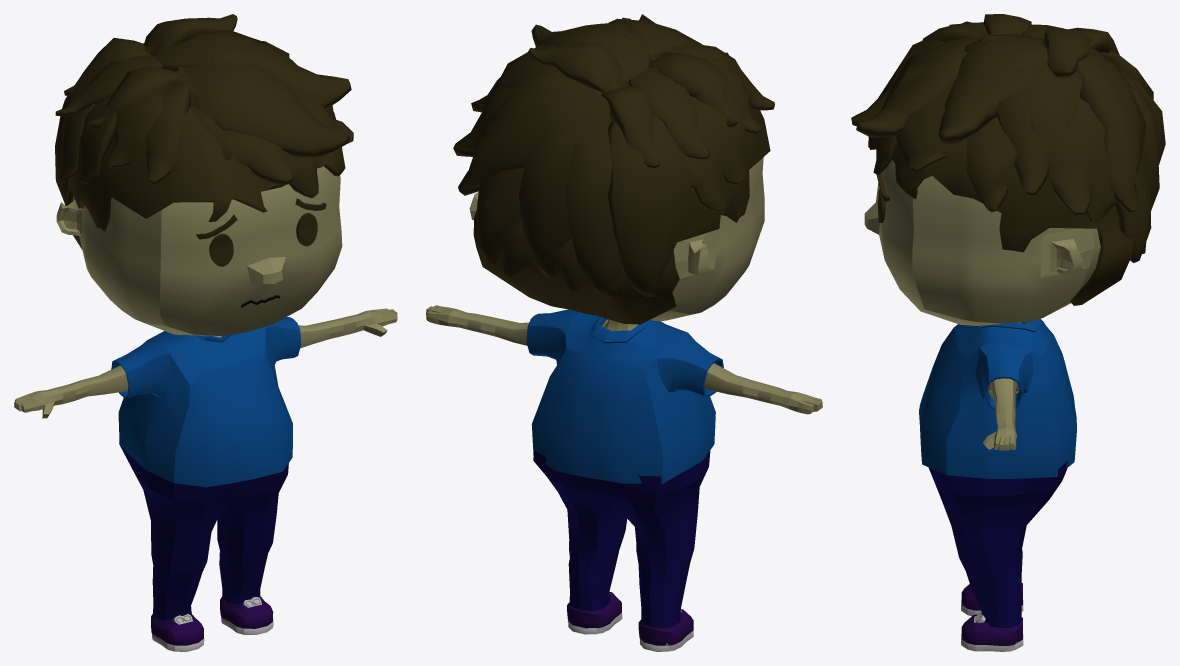
File: NINO.fbx
3 renders of one model, left to right at view 1: azimuth 30°, elevation 25°; view 2: azimuth 150°, elevation 25°; view 3: azimuth 270°, elevation 25°, orthographic. The views are drawn at different scales.
Parts seen in each view (by area): view 1: polySurface5, polySurface4, polySurface6, polySurface2, pCube6, pCube24, pCube20, pCube19, pCube21, pCube11, pCube10, pCube22 (+10 smaller); view 2: polySurface4, polySurface6, polySurface5, pCube15, polySurface2, pCube12, pCube13, pCube14, pCube10, pCube24, pCube16, pCube8 (+13 smaller); view 3: polySurface5, polySurface4, polySurface2, polySurface6, pCube24, pCube12, pCube17, pCube18, pCube6, pCube7, pCube25, pCube8 (+11 smaller).
Part boxes in pixels (left/top/right/bottom): polySurface5: left=14, top=166, right=397, bottom=418; polySurface4: left=111, top=317, right=301, bottom=487; polySurface6: left=119, top=442, right=288, bottom=620; polySurface2: left=65, top=71, right=345, bottom=249; pCube6: left=177, top=62, right=349, bottom=158; pCube24: left=155, top=30, right=351, bottom=109; pCube20: left=145, top=80, right=190, bottom=184; pCube19: left=191, top=104, right=292, bottom=184; pCube21: left=108, top=84, right=171, bottom=168; pCube11: left=87, top=66, right=180, bottom=129; pCube10: left=55, top=55, right=162, bottom=116; pCube22: left=79, top=97, right=117, bottom=184; polySurface4: left=526, top=309, right=723, bottom=483; polySurface6: left=533, top=450, right=710, bottom=628; polySurface5: left=426, top=157, right=822, bottom=646; pCube15: left=607, top=114, right=691, bottom=297; polySurface2: left=473, top=14, right=770, bottom=324; pCube12: left=458, top=66, right=618, bottom=195; pCube13: left=519, top=91, right=611, bottom=279; pCube14: left=566, top=133, right=622, bottom=298; pCube10: left=628, top=67, right=709, bottom=159; pCube24: left=531, top=22, right=652, bottom=83; pCube16: left=477, top=168, right=524, bottom=265; pCube8: left=527, top=42, right=627, bottom=92; polySurface5: left=864, top=159, right=1100, bottom=643; polySurface4: left=919, top=318, right=1076, bottom=478; polySurface2: left=868, top=21, right=1133, bottom=305; polySurface6: left=928, top=461, right=1067, bottom=627; pCube24: left=938, top=33, right=1047, bottom=144; pCube12: left=1076, top=48, right=1146, bottom=213; pCube17: left=997, top=62, right=1081, bottom=196; pCube18: left=1025, top=86, right=1104, bottom=216; pCube6: left=856, top=38, right=982, bottom=138; pCube7: left=966, top=35, right=1016, bottom=212; pCube25: left=895, top=33, right=991, bottom=173; pCube8: left=1042, top=27, right=1091, bottom=78.
Bounding box in the file's own units: 5.6 × 8.32 × 3.96.
